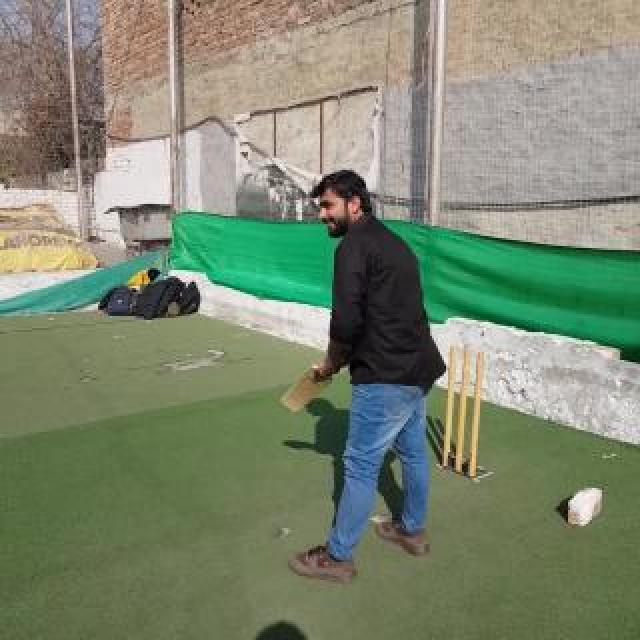bat: (281, 363, 333, 413)
